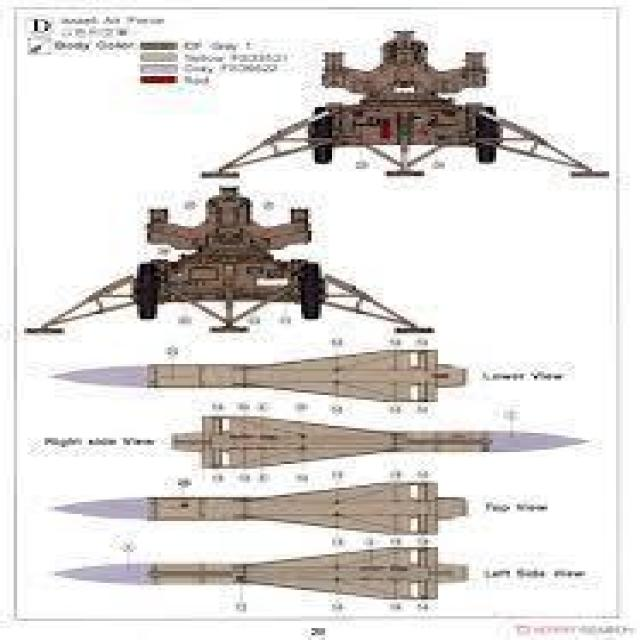Tanks: (315, 38, 506, 188), (120, 194, 332, 329)
